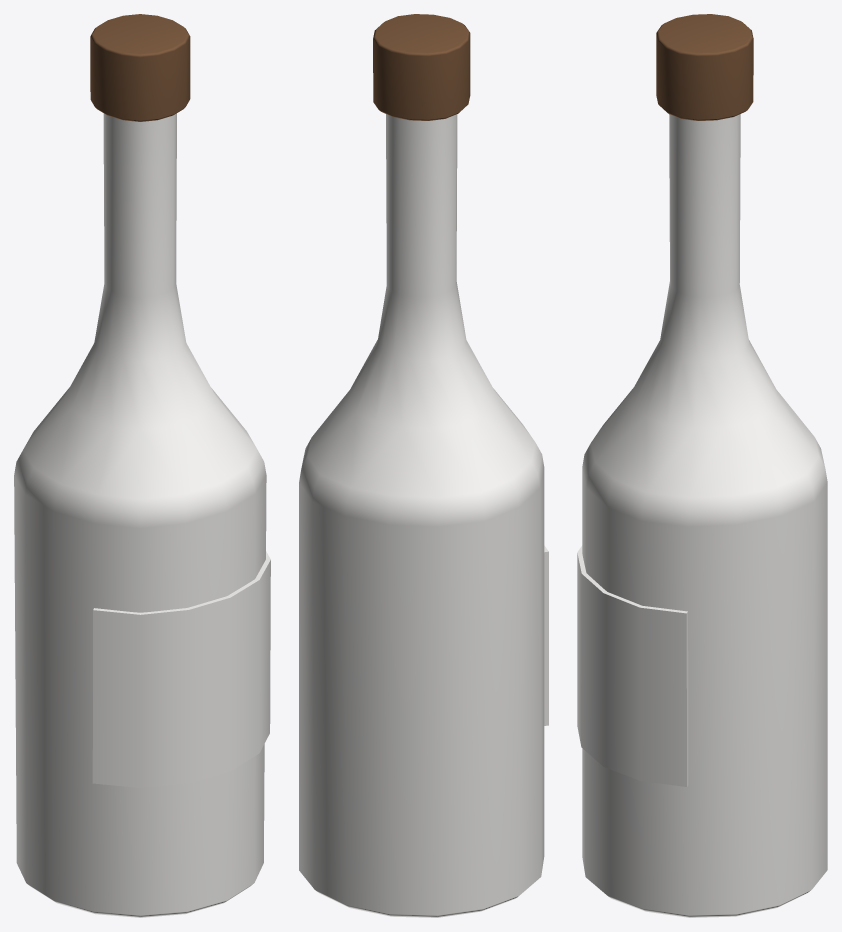
The model's file is Wine_Bottle_1.glb.
The picture shows the model from 3 angles, left to right: view 1: azimuth 30°, elevation 25°; view 2: azimuth 150°, elevation 25°; view 3: azimuth 270°, elevation 25°; orthographic projection.
Visible parts, largest first — view 1: Wine_Bottle_1; view 2: Wine_Bottle_1; view 3: Wine_Bottle_1.
Part boxes in pixels (x1=…): Wine_Bottle_1: x1=14, y1=14, x2=270, y2=917; Wine_Bottle_1: x1=299, y1=14, x2=548, y2=917; Wine_Bottle_1: x1=577, y1=14, x2=827, y2=917.
Size of the model in its own units: 0.1038 by 0.3822 by 0.1039.
2 materials, 2 textured.
